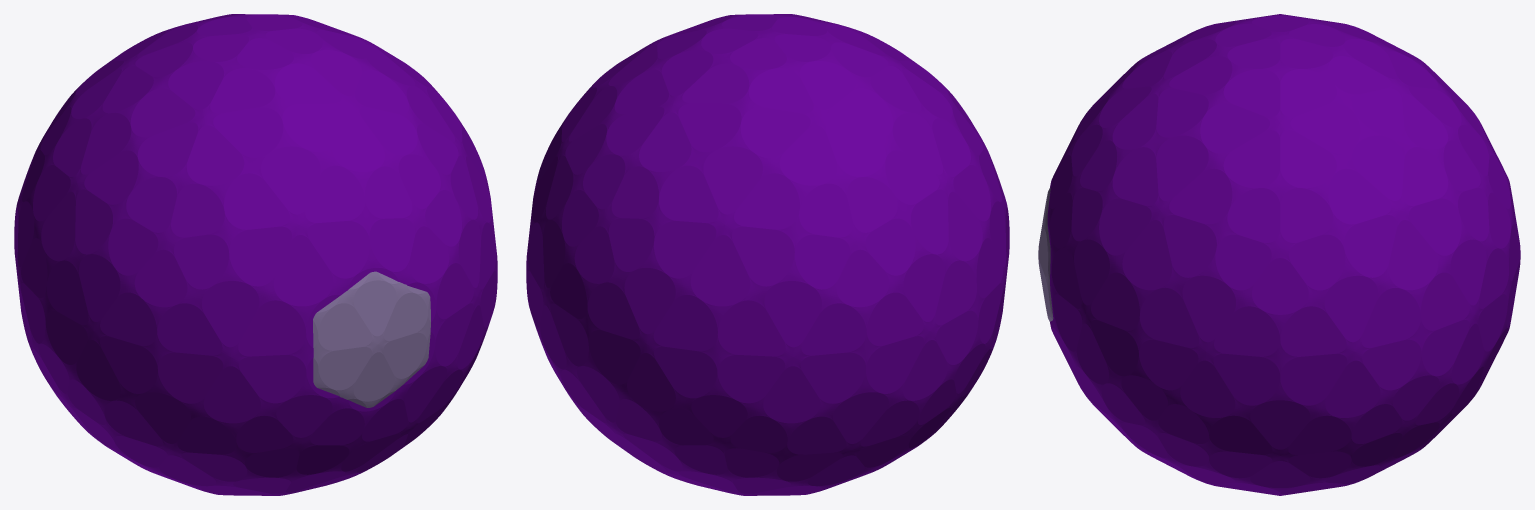
Rendered from myach.fbx.
3 renders of one model, left to right at view 1: azimuth 30°, elevation 25°; view 2: azimuth 150°, elevation 25°; view 3: azimuth 270°, elevation 25°, orthographic.
Visible parts, largest first — view 1: Icosphere, Icosphere.001; view 2: Icosphere; view 3: Icosphere, Icosphere.001.
Boxes of the visible parts, x1,y1,x2,y2 form: Icosphere: [14, 14, 497, 495]; Icosphere.001: [313, 271, 430, 407]; Icosphere: [526, 14, 1009, 495]; Icosphere: [1047, 14, 1520, 495]; Icosphere.001: [1038, 187, 1053, 321].
Bounding box in the file's own units: 184 × 185 × 185.
